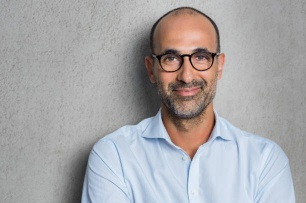male: (147, 5, 224, 125)
